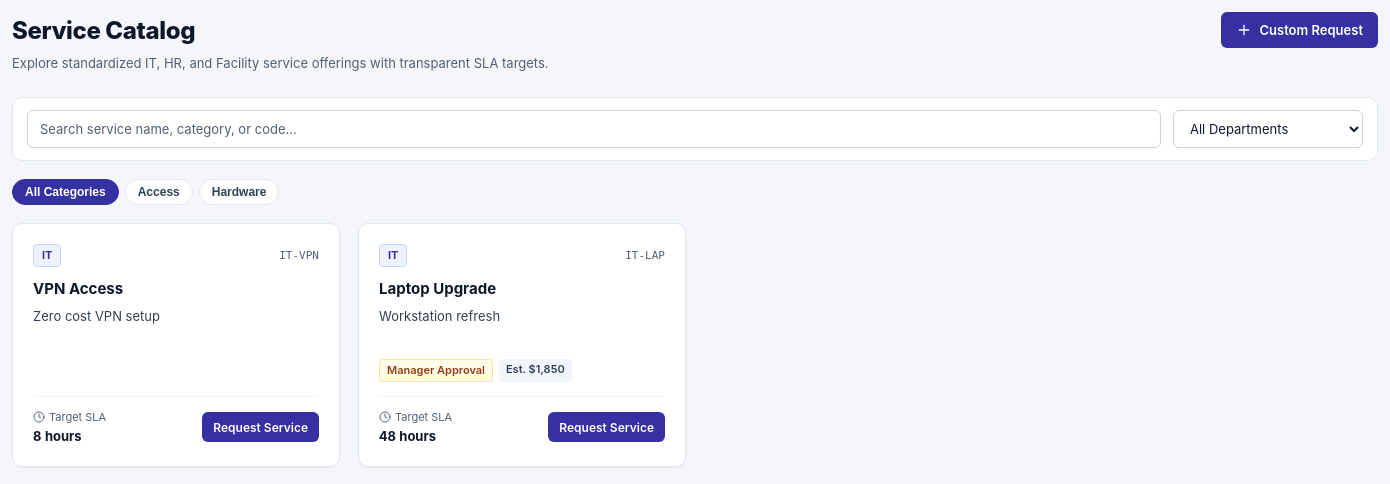
P9.6 Stage I — Comprehensive Frontend Interaction, Validation & Error Recovery Suite › P96-FE-01: ServiceCatalog omits stray 0 on $0 offerings and filters by derived category pills & keyword
The image size is (1390, 484).
Expected: the heading "VPN Access" is shown, [33, 279, 123, 298]
Expected: the heading "Laptop Upgrade" is shown, [379, 279, 496, 298]
Filter by category pill
Step 1. Click the button "Hardware" → click(239, 192), box [199, 179, 280, 205]
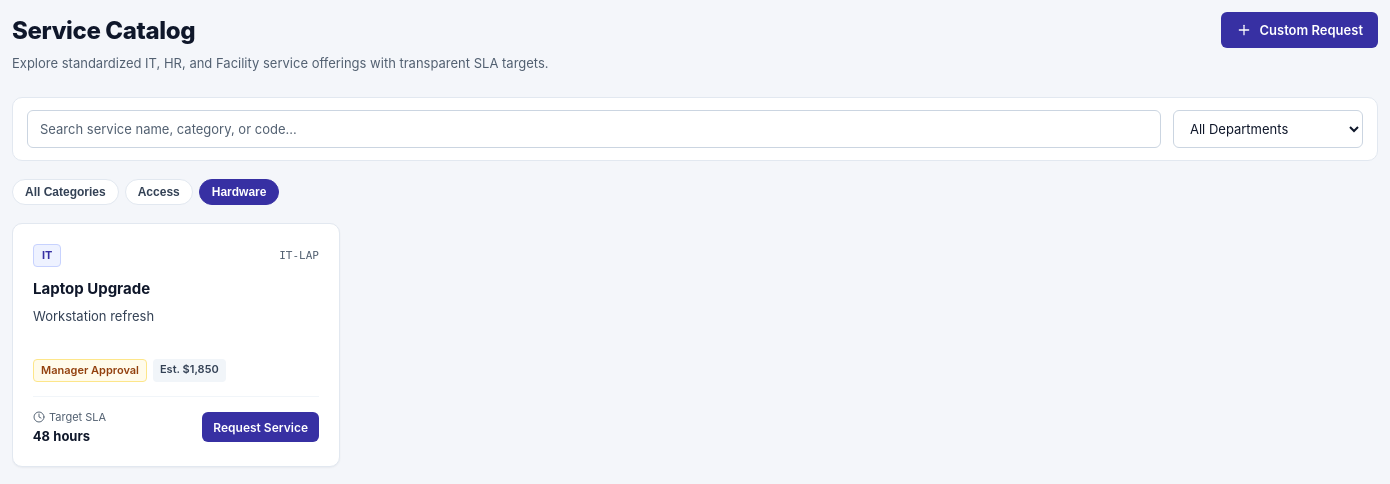
Expected: the heading "Laptop Upgrade" is shown, [33, 279, 150, 298]
Result: the heading "VPN Access" is gone
